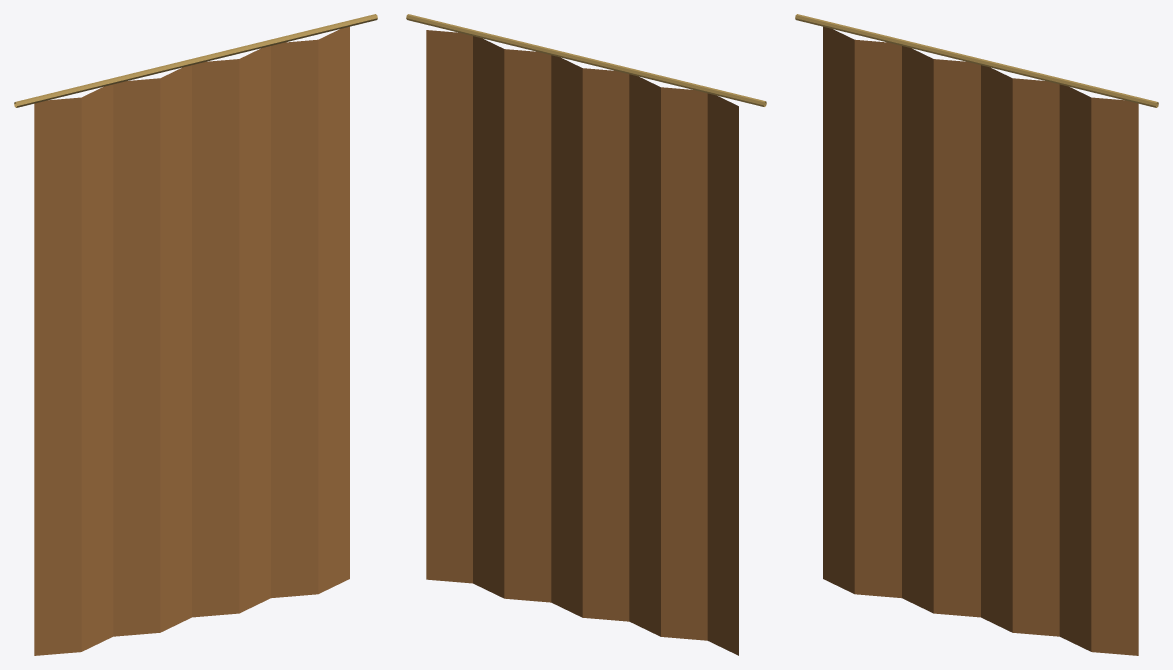
The model's file is curtain.gltf.
The picture shows the model from 3 angles, left to right: view 1: azimuth 30°, elevation 25°; view 2: azimuth 150°, elevation 25°; view 3: azimuth 330°, elevation 25°; orthographic projection.
Parts seen in each view (by area): view 1: Mesh; view 2: Mesh; view 3: Mesh.
Part boxes in pixels (x1=…): Mesh: x1=14, y1=14, x2=377, y2=655; Mesh: x1=406, y1=14, x2=766, y2=655; Mesh: x1=795, y1=14, x2=1158, y2=655.
Bounding box in the file's own units: 1.6 × 2.38 × 0.06.
